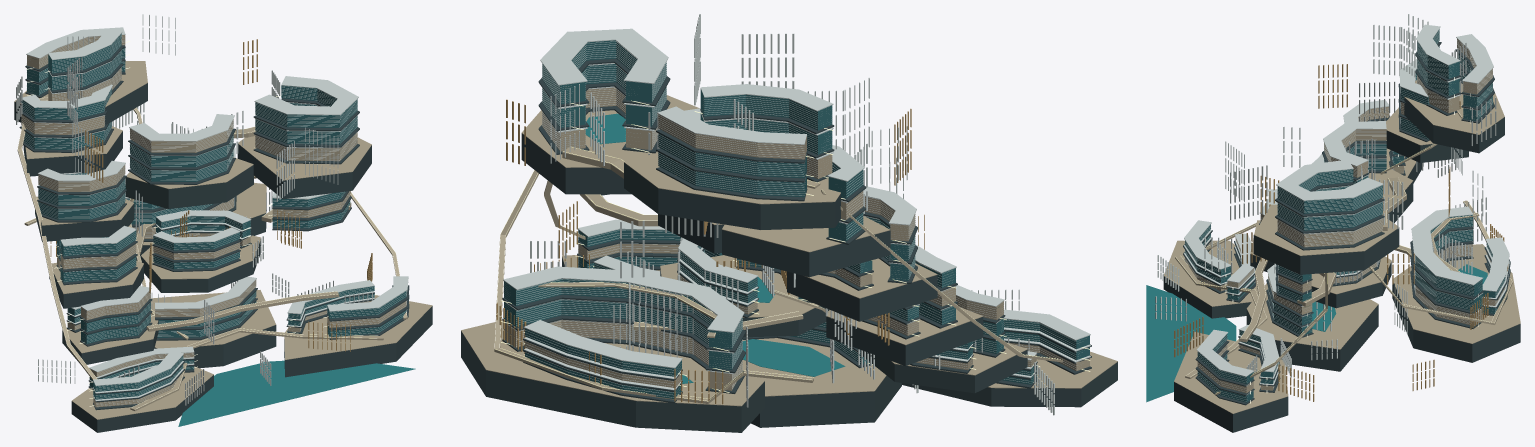
File: R19_INITIAL.glb
3 views of the same model, side by side, from view 1: azimuth 30°, elevation 25°; view 2: azimuth 150°, elevation 25°; view 3: azimuth 270°, elevation 25° (orthographic). The views are drawn at different scales.
Parts seen in each view (by area): view 1: A_INLAND_SEA, A_EAST_deep_public_land, D_HIGH_WEST_deep_public_land, A_EAST_public_surface, D_HIGH_EAST_deep_public_land, D_EAST_SKY_CITY_inhabited_depth_2, A_WEST_deep_public_land, D_EAST_SKY_CITY_roof_avenue_2, D_HIGH_EAST_public_surface, A_INNER_deep_public_land, A_WEST_public_surface, A_INNER_public_surface (+77 smaller); view 2: C_REAR_DELTA_deep_public_land, E_HIGH_LAND_deep_public_land, C_REAR_DELTA_public_surface, A_INNER_deep_public_land, B4_deep_public_land, C_REAR_CIVILIZATION_roof_avenue_2, D_EAST_SKY_CITY_roof_avenue_2, C_REAR_CIVILIZATION_inhabited_depth_1, B3_deep_public_land, B2_deep_public_land, A_INNER_public_surface, C_REAR_CIVILIZATION_inhabited_depth_2 (+55 smaller); view 3: A_INLAND_SEA, C_REAR_DELTA_public_surface, D_HIGH_EAST_deep_public_land, A_EAST_public_surface, C_REAR_DELTA_deep_public_land, A_INNER_public_surface, A_EAST_deep_public_land, A_INNER_deep_public_land, D_EAST_SKY_CITY_inhabited_depth_2, D_EAST_SKY_CITY_roof_avenue_2, C_REAR_CIVILIZATION_roof_avenue_2, E_HIGH_LAND_deep_public_land (+47 smaller).
Part boxes in pixels (box(x1,y1,x2,y2)): A_INLAND_SEA: box(178, 360, 415, 426); A_EAST_deep_public_land: box(284, 306, 432, 377); D_HIGH_WEST_deep_public_land: box(125, 165, 253, 208); A_EAST_public_surface: box(284, 295, 432, 359); D_HIGH_EAST_deep_public_land: box(237, 144, 371, 199); D_EAST_SKY_CITY_inhabited_depth_2: box(255, 85, 357, 127); A_WEST_deep_public_land: box(71, 375, 213, 432); D_EAST_SKY_CITY_roof_avenue_2: box(254, 76, 358, 115); D_HIGH_EAST_public_surface: box(238, 136, 371, 180); A_INNER_deep_public_land: box(154, 325, 276, 368); A_WEST_public_surface: box(72, 366, 213, 419); A_INNER_public_surface: box(150, 290, 276, 348); C_REAR_DELTA_deep_public_land: box(461, 331, 764, 432); E_HIGH_LAND_deep_public_land: box(624, 163, 841, 229); C_REAR_DELTA_public_surface: box(461, 320, 764, 406); A_INNER_deep_public_land: box(751, 375, 901, 427); B4_deep_public_land: box(722, 230, 890, 277); C_REAR_CIVILIZATION_roof_avenue_2: box(503, 266, 744, 332); D_EAST_SKY_CITY_roof_avenue_2: box(540, 28, 668, 85); C_REAR_CIVILIZATION_inhabited_depth_1: box(504, 299, 742, 369); B3_deep_public_land: box(787, 271, 937, 321); B2_deep_public_land: box(826, 316, 983, 365); A_INNER_public_surface: box(742, 338, 886, 396); C_REAR_CIVILIZATION_inhabited_depth_2: box(504, 278, 742, 349); A_INLAND_SEA: box(1146, 285, 1236, 402); C_REAR_DELTA_public_surface: box(1393, 244, 1520, 343); D_HIGH_EAST_deep_public_land: box(1253, 228, 1399, 274); A_EAST_public_surface: box(1174, 332, 1288, 413); C_REAR_DELTA_deep_public_land: box(1392, 283, 1520, 362); A_INNER_public_surface: box(1246, 283, 1378, 349); A_EAST_deep_public_land: box(1174, 382, 1288, 432); A_INNER_deep_public_land: box(1246, 305, 1378, 371); D_EAST_SKY_CITY_inhabited_depth_2: box(1277, 169, 1382, 213); D_EAST_SKY_CITY_roof_avenue_2: box(1276, 159, 1383, 200); C_REAR_CIVILIZATION_roof_avenue_2: box(1411, 206, 1482, 285); E_HIGH_LAND_deep_public_land: box(1404, 97, 1504, 153).
Size of the model in its own units: 6225 by 4256 by 5400.
